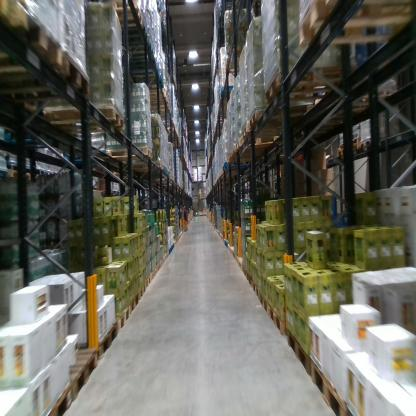forklift: (181, 190, 192, 234)
pallet: (294, 3, 415, 51), (2, 54, 96, 109), (4, 16, 68, 81), (260, 65, 367, 102), (38, 101, 126, 142), (55, 343, 99, 401), (310, 353, 347, 416), (248, 103, 312, 132), (287, 323, 316, 387), (242, 118, 307, 142), (94, 322, 118, 369), (41, 381, 74, 413), (102, 5, 141, 29), (103, 143, 151, 162), (236, 135, 286, 150), (269, 300, 290, 334), (11, 163, 34, 192), (112, 303, 130, 333), (129, 160, 164, 173), (125, 288, 140, 315), (259, 287, 272, 316), (133, 280, 147, 299), (333, 146, 350, 161), (360, 135, 372, 156), (143, 272, 152, 294), (246, 268, 253, 290), (253, 278, 259, 300), (350, 142, 360, 155), (153, 261, 162, 274), (239, 255, 246, 271), (151, 267, 157, 283), (161, 252, 167, 264), (242, 263, 246, 279), (158, 258, 164, 268)
